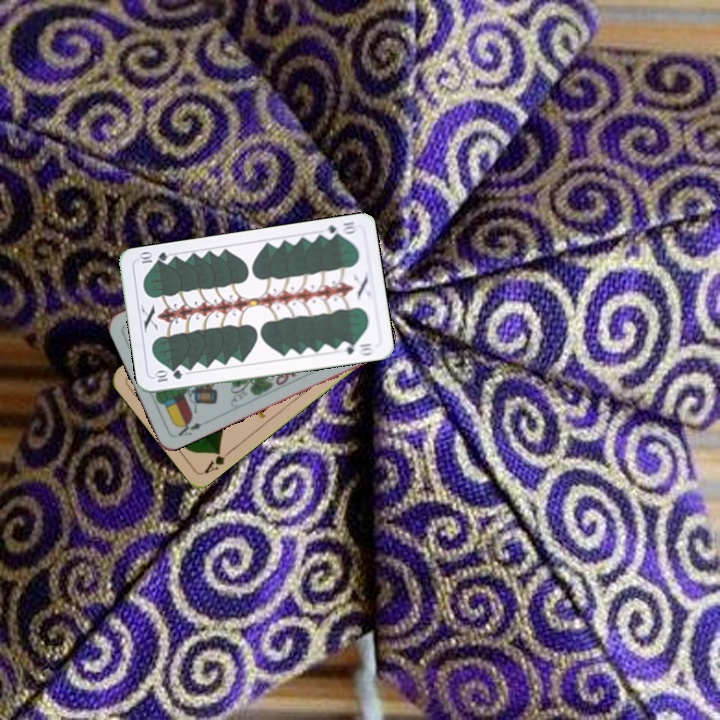EA: (172, 416, 204, 440)
G10: (320, 217, 360, 241), (150, 366, 185, 385)
GA: (200, 446, 234, 477)
